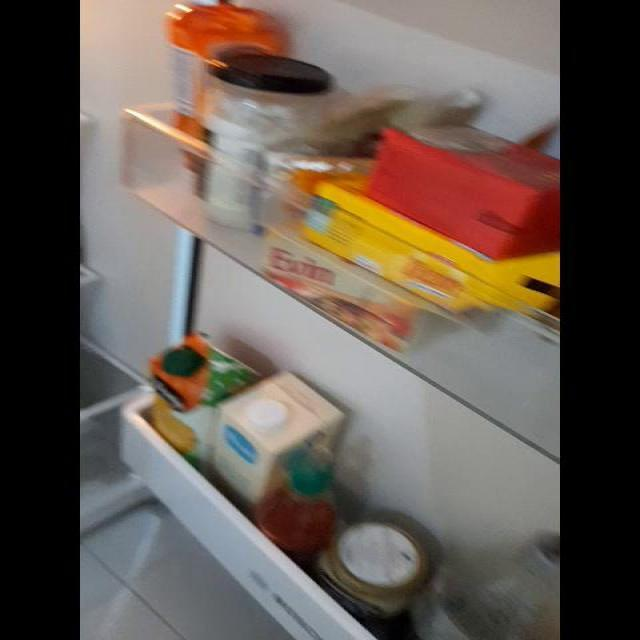butter: (278, 195, 462, 318)
juice: (150, 340, 218, 458)
milk: (216, 376, 303, 500)
sauce: (168, 6, 211, 185), (272, 441, 332, 536)
